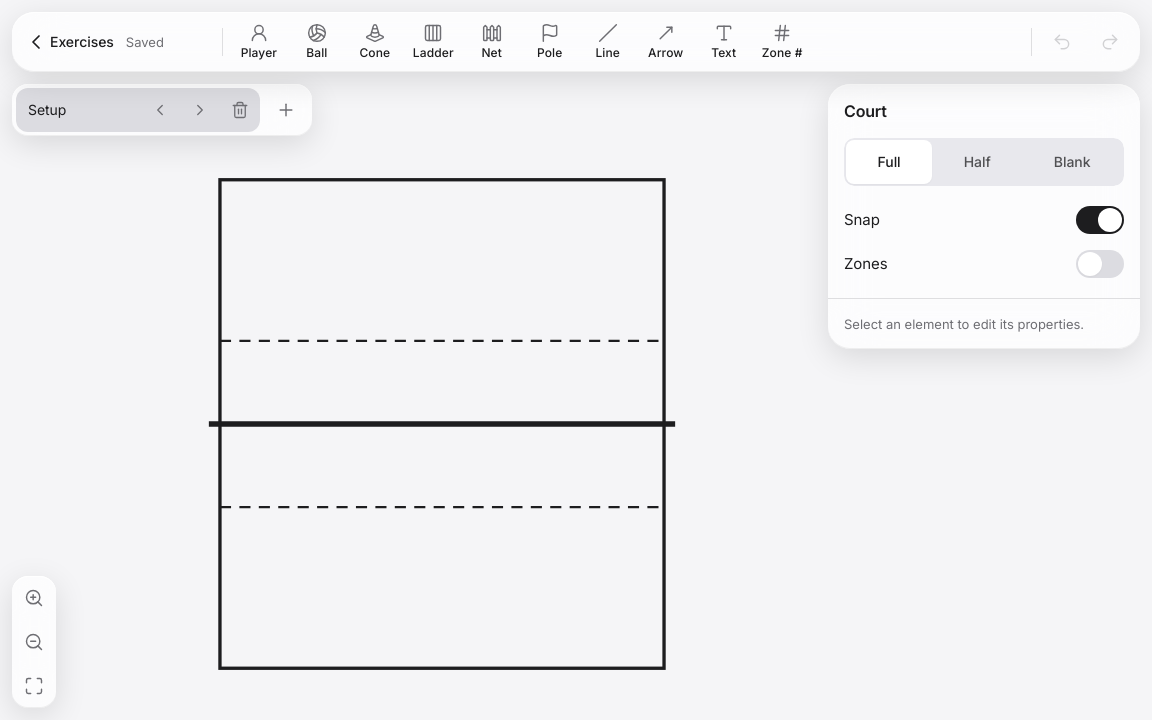
DiagramEditorPage › toggles zone labels on via the Zones checkbox and shows Saving…
Expected: the field showing "Setup" is shown, left=28, top=88, right=140, bottom=132
Click the checkbox labelled "Zones" at (866, 264), box left=844, top=242, right=1124, bottom=286
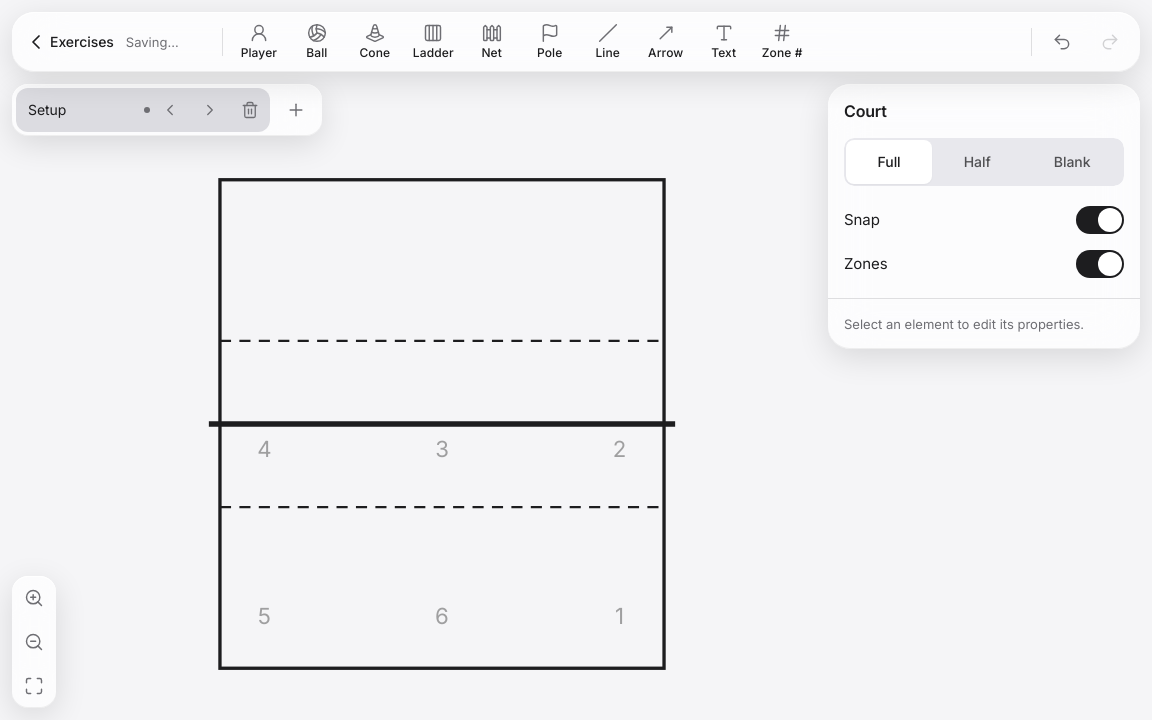
Expected: the checkbox labelled "Zones" is checked, left=844, top=242, right=1124, bottom=286
Expected: the text "Saving…" is shown, left=126, top=33, right=179, bottom=51
